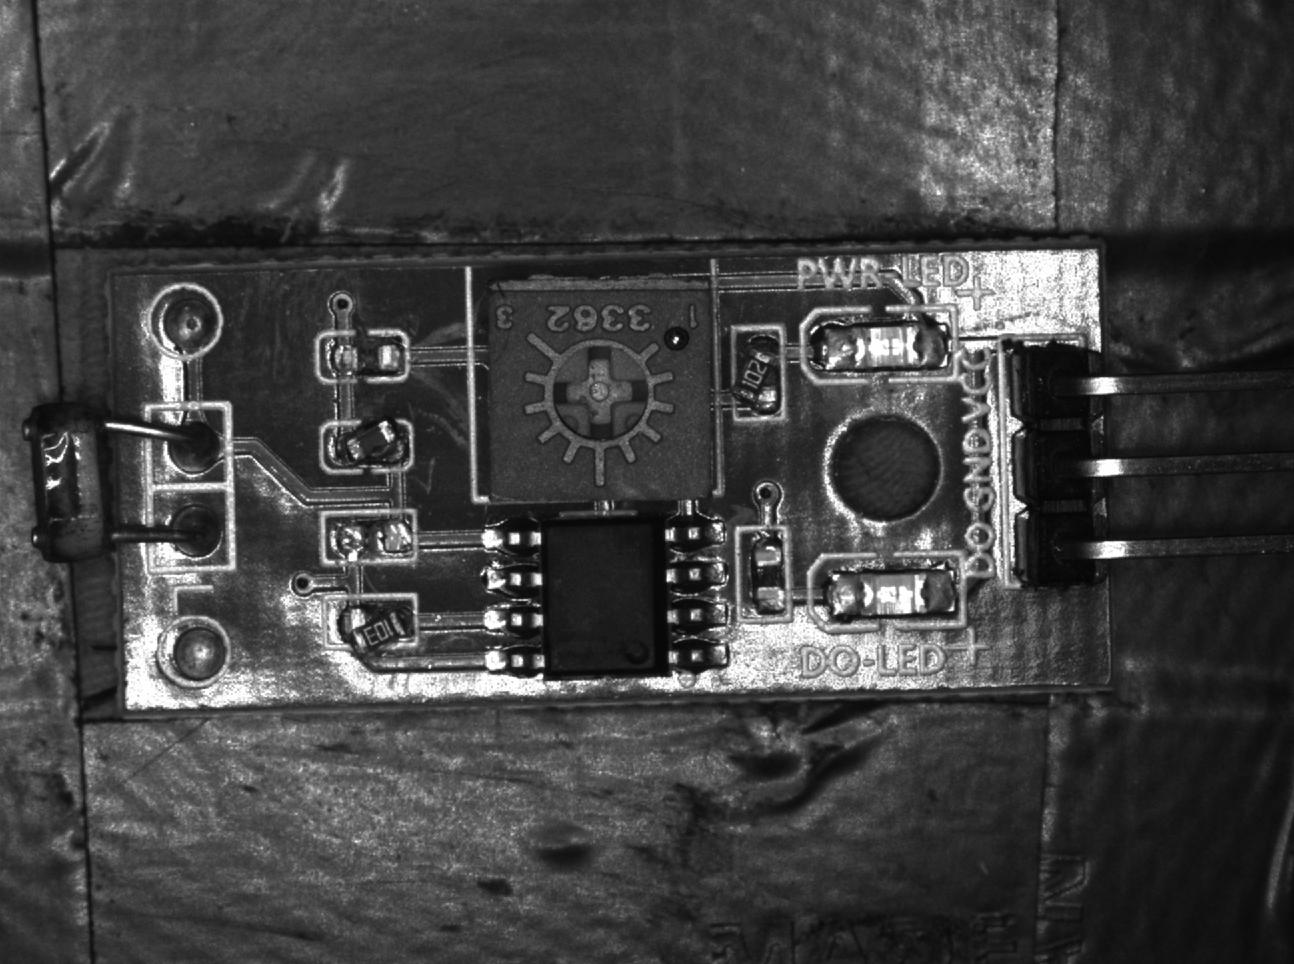lifted: (320, 595, 415, 658), (320, 419, 414, 478), (731, 327, 785, 421)
miss: (321, 510, 418, 570), (736, 527, 791, 624), (317, 333, 408, 382)
